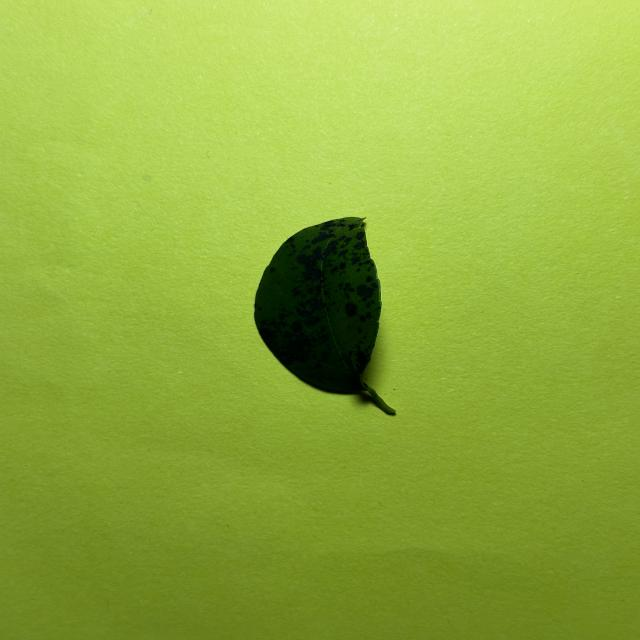sooty_mold: (255, 217, 394, 413)
